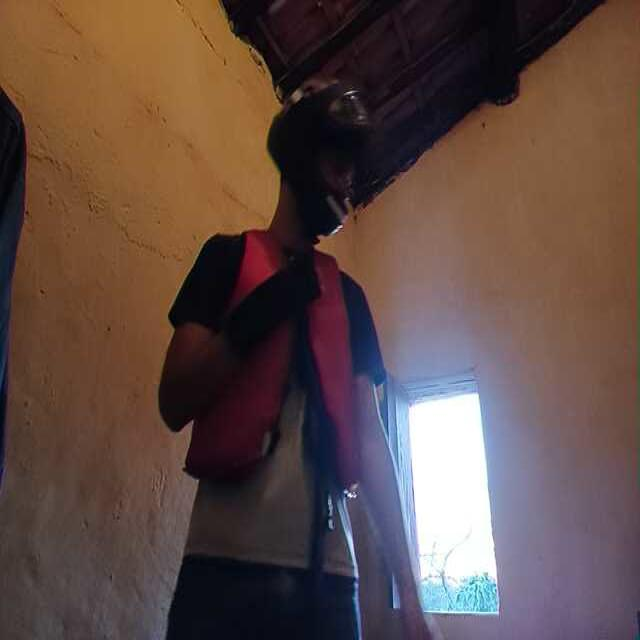capacete: (264, 80, 370, 230)
colete: (206, 231, 368, 486)
pessoa: (148, 149, 392, 640)
